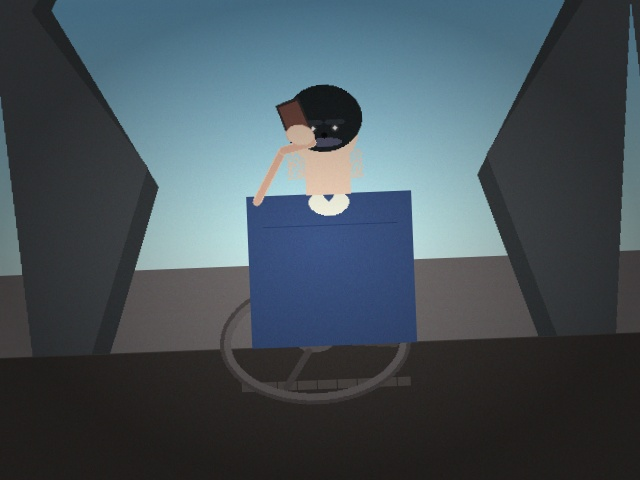phone_usage: (279, 92, 319, 147)
